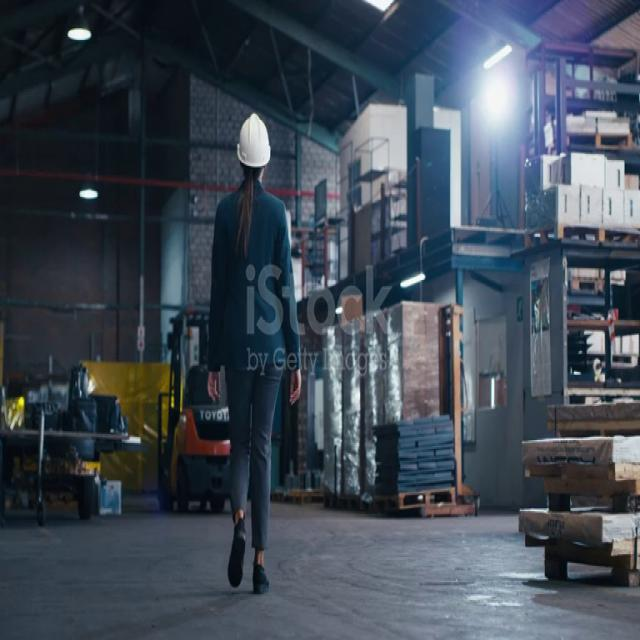capacete: (227, 101, 284, 192)
